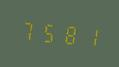eight: (58, 19, 77, 48)
five: (38, 18, 57, 46)
one: (78, 21, 97, 50)
seven: (18, 16, 37, 45)
